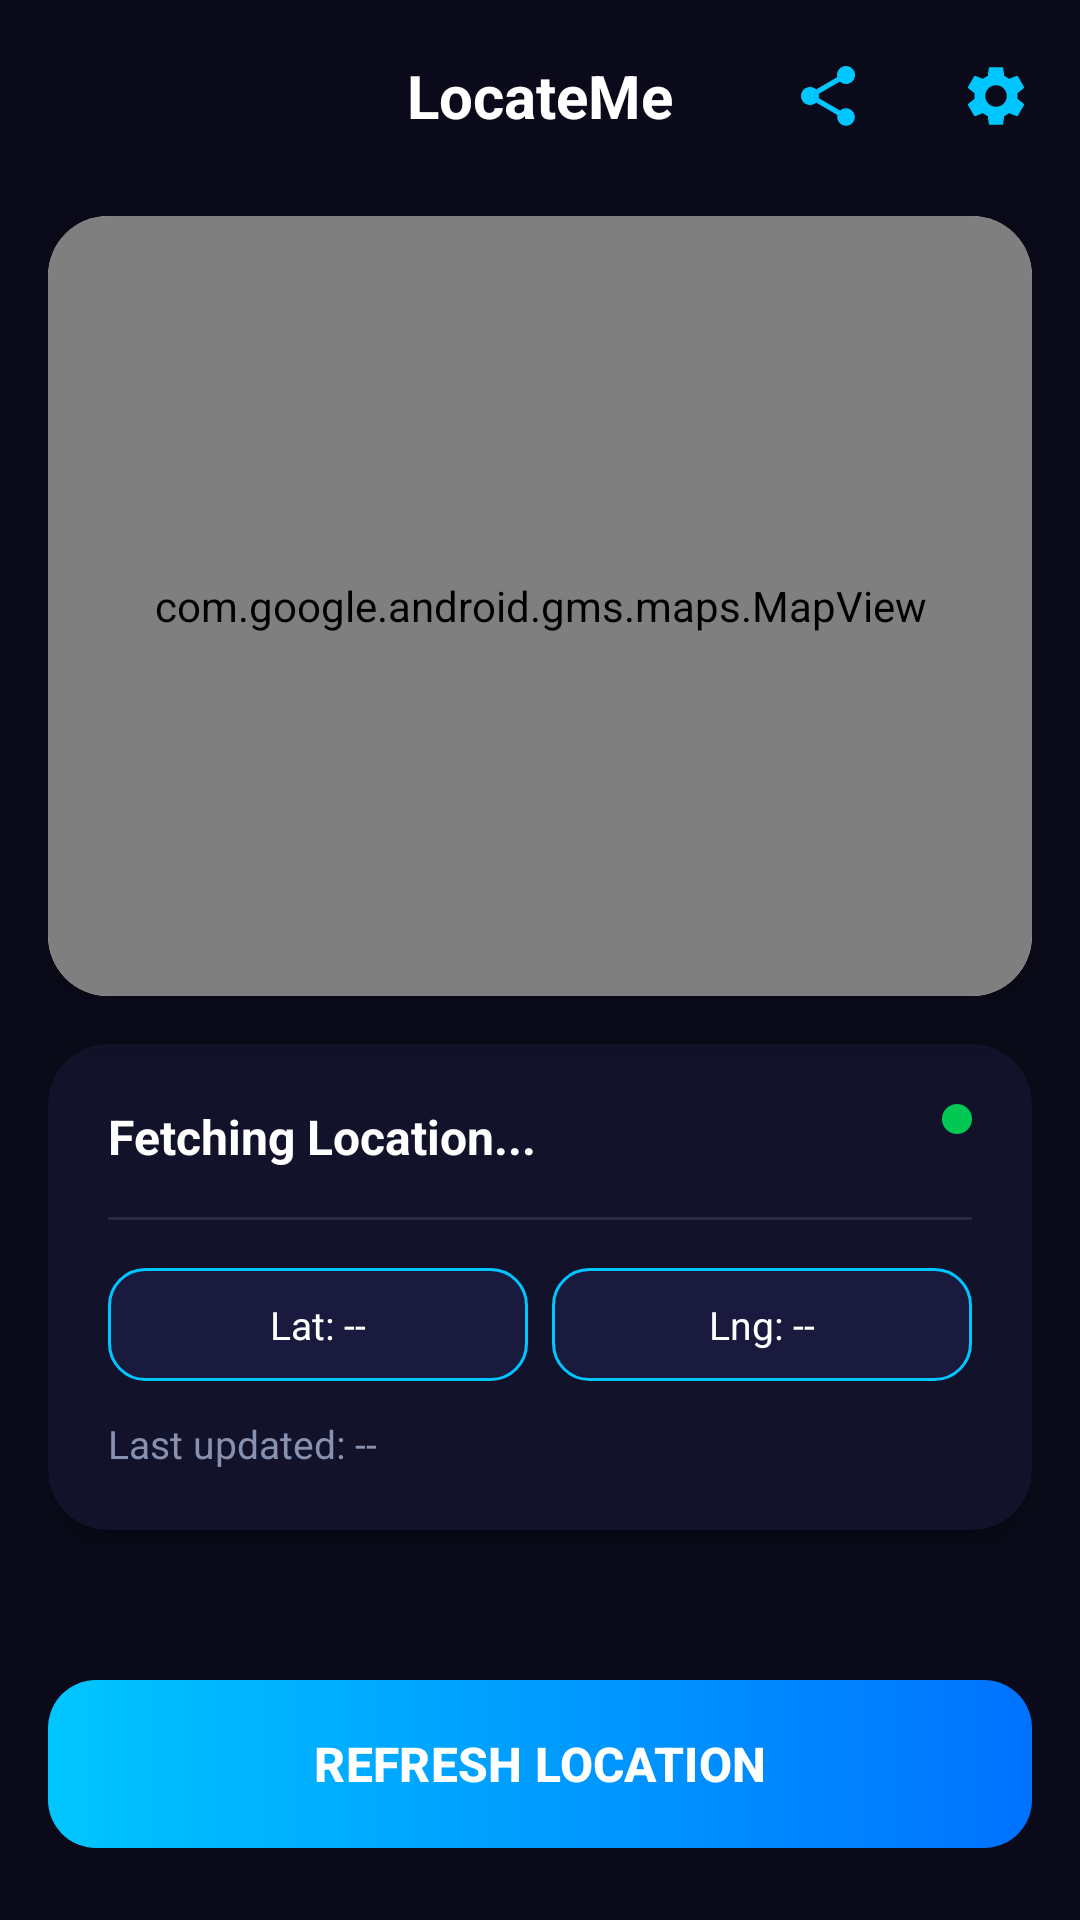

Screen size 1080×1920. Icon name, then its center in pixels as point (x, y):
settings: point (996, 96)
share: point (828, 96)
